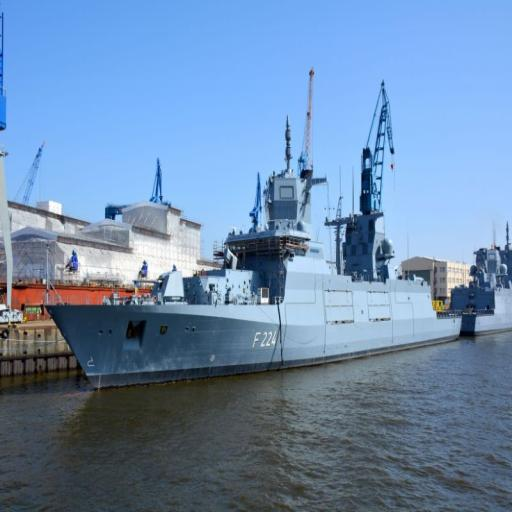Fragata: (45, 121, 465, 396)
